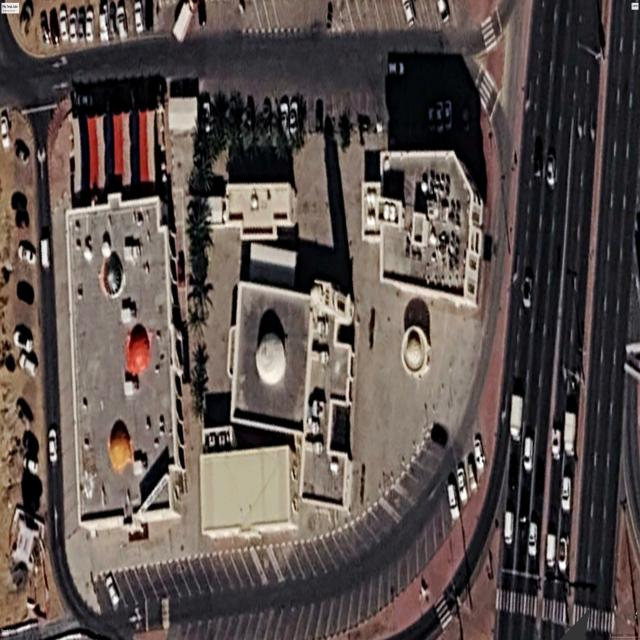mosque: (227, 280, 355, 511)
